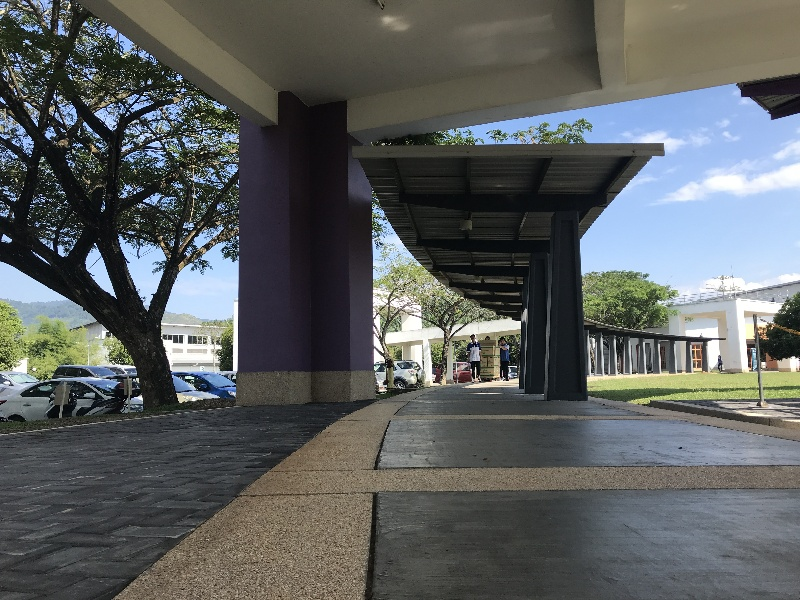Block D corridor: (3, 1, 793, 598)
pillar: (222, 82, 396, 407), (521, 215, 611, 396)
